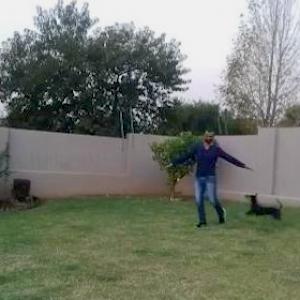land: (172, 126, 250, 219)
